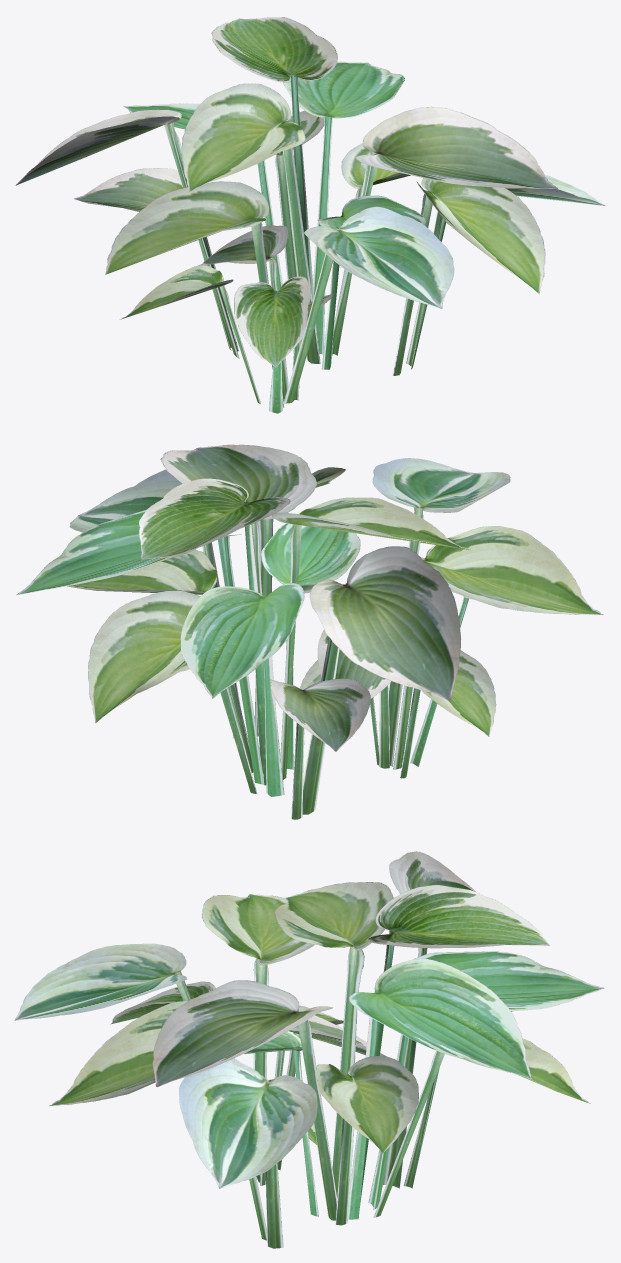
The model's file is plant_small_wg_00W.fbx.
3 views of the same model, one above another, from view 1: azimuth 30°, elevation 25°; view 2: azimuth 150°, elevation 25°; view 3: azimuth 270°, elevation 25° (orthographic). The views are drawn at different scales.
Parts seen in each view (by area): view 1: plant_small_wg_00W; view 2: plant_small_wg_00W; view 3: plant_small_wg_00W.
Boxes of the visible parts, x1,y1,x2,y2 form: plant_small_wg_00W: [15, 17, 605, 413]; plant_small_wg_00W: [16, 444, 603, 819]; plant_small_wg_00W: [14, 851, 604, 1248].
Size of the model in its own units: 87.21 by 48.74 by 85.86.
1 material, 1 textured.
